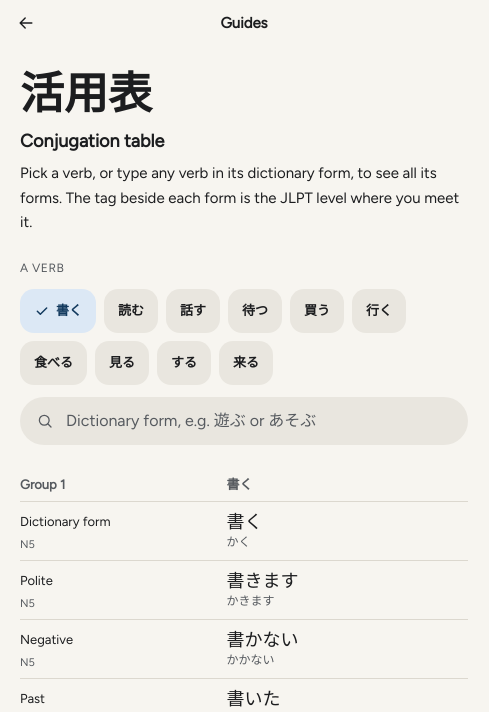
it: the guides › says when a typed word is not a verb
This screenshot has width=489, height=712.
Type "ほん" into the search field named "Any verb".
click(258, 421); type("ほん")  # box x1=64 y1=408 x2=452 y2=434
Then press Enter
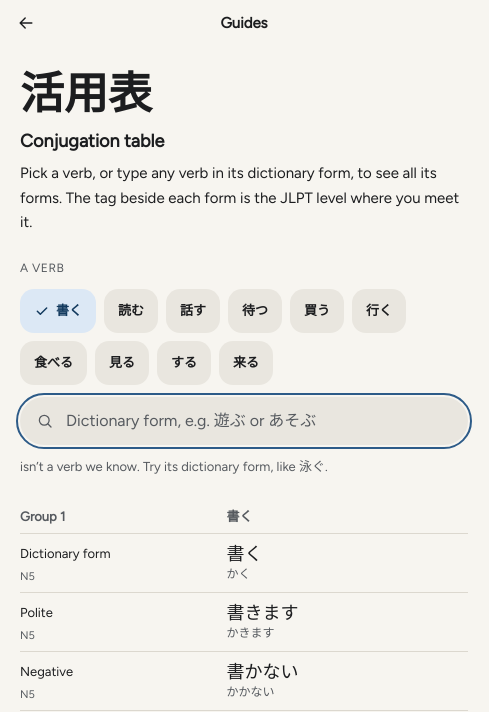
Now the message "isn’t a verb we know. Try its dictionary form, like 泳ぐ." is shown, box x1=20 y1=459 x2=328 y2=474
